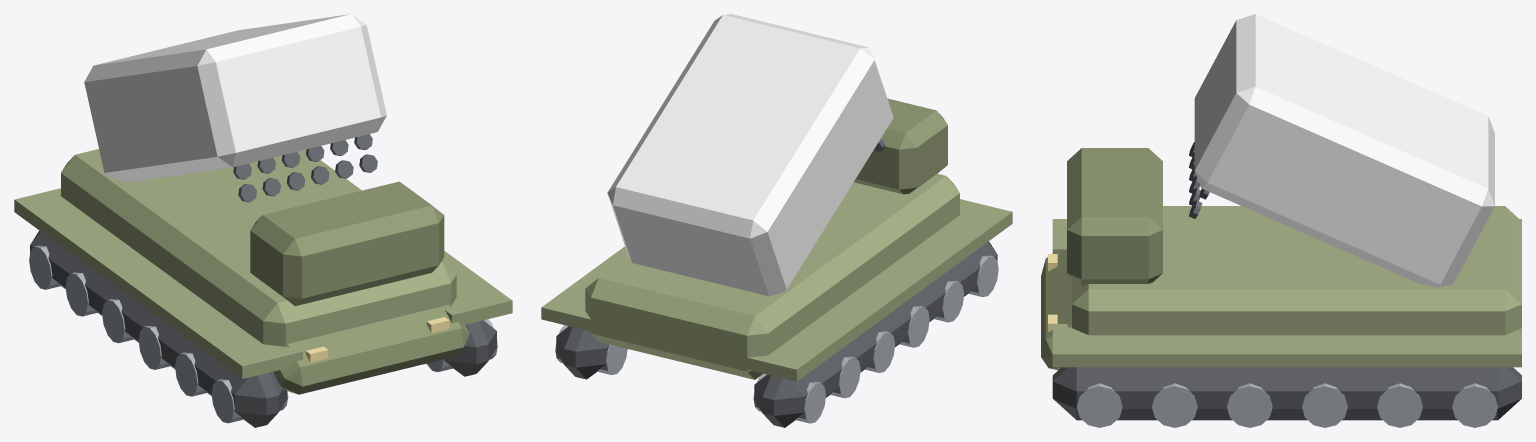
The model's file is thermo.glb.
3 renders of one model, left to right at view 1: azimuth 30°, elevation 25°; view 2: azimuth 150°, elevation 25°; view 3: azimuth 270°, elevation 25°, orthographic. The views are drawn at different scales.
Parts seen in each view (by area): view 1: main, turret; view 2: main, turret; view 3: main, turret.
Part boxes in pixels (box(x1,y1,x2,y2)): main: box(14, 149, 512, 427); turret: box(84, 14, 386, 202); main: box(541, 98, 1012, 427); turret: box(607, 14, 893, 296); main: box(1041, 148, 1521, 427); turret: box(1189, 14, 1494, 287).
Bounding box in the file's own units: 0.67 × 0.7245 × 1.
